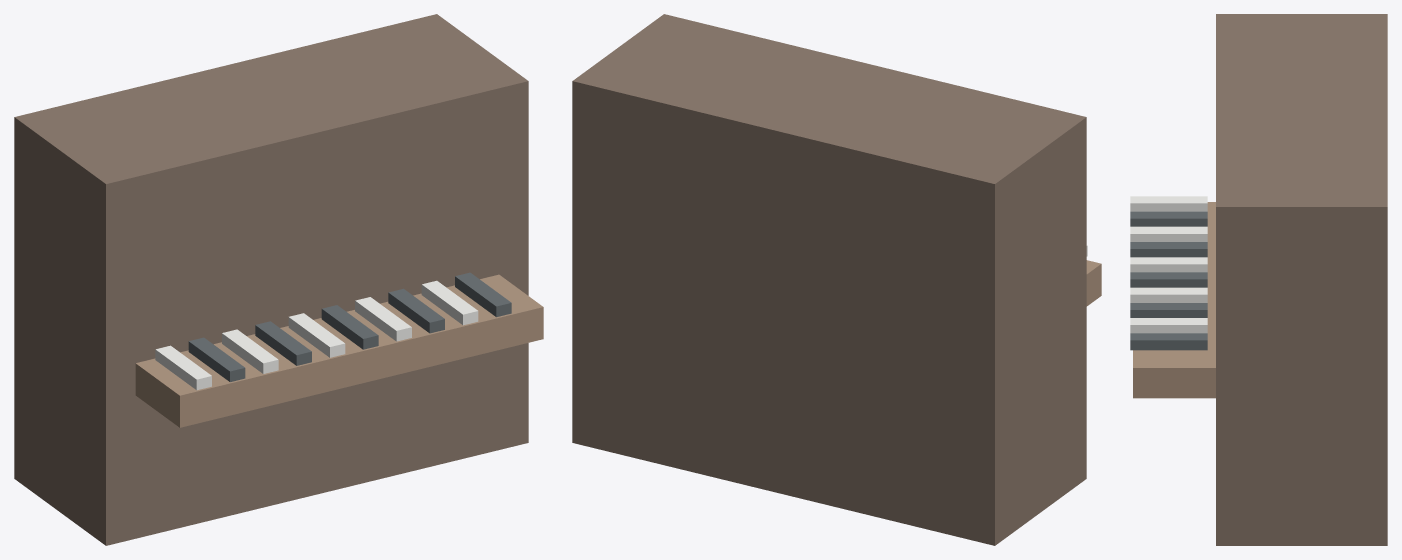
Rendered from piano_upright.glb.
3 renders of one model, left to right at view 1: azimuth 30°, elevation 25°; view 2: azimuth 150°, elevation 25°; view 3: azimuth 270°, elevation 25°, orthographic. The views are drawn at different scales.
Visible parts, largest first — view 1: part_00, part_01, part_06, part_03, part_07, part_10, part_08, part_09, part_02, part_04, part_11, part_05; view 2: part_00, part_01; view 3: part_00, part_01, part_11, part_02, part_03, part_04, part_05, part_06, part_07, part_08, part_10, part_09.
Boxes of the visible parts, x1,y1,x2,y2 form: part_00: (14,14,528,545); part_01: (135,274,543,427); part_06: (288,313,345,357); part_03: (188,337,245,381); part_07: (321,305,378,349); part_10: (421,280,478,325); part_08: (355,297,411,341); part_09: (388,288,444,333); part_02: (155,345,211,390); part_04: (222,329,278,373); part_11: (455,272,511,317); part_05: (255,321,311,365); part_00: (572,14,1086,545); part_01: (1086,260,1101,306); part_00: (1216,14,1387,545); part_01: (1133,202,1215,398); part_11: (1130,333,1207,350); part_02: (1130,196,1207,211); part_03: (1130,211,1207,226); part_04: (1130,226,1207,241); part_05: (1130,242,1207,257); part_06: (1130,257,1207,272); part_07: (1130,272,1207,287); part_08: (1130,287,1207,302); part_10: (1130,318,1207,333); part_09: (1130,303,1207,317).
Size of the model in its own units: 1.65 by 1.35 by 0.93.
